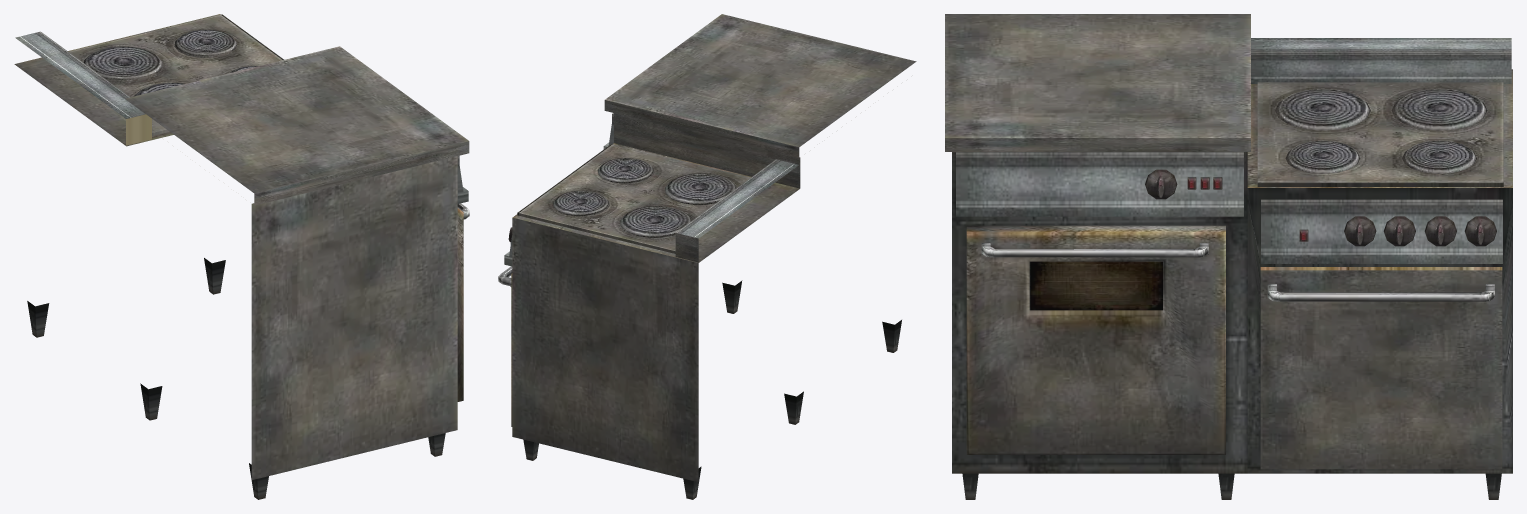
File: kitchen_stove001a.glb
3 renders of one model, left to right at view 1: azimuth 30°, elevation 25°; view 2: azimuth 150°, elevation 25°; view 3: azimuth 270°, elevation 25°, orthographic. The views are drawn at different scales.
Parts seen in each view (by area): view 1: 0_prisonkitchen02; view 2: 0_prisonkitchen02; view 3: 0_prisonkitchen02.
Boxes of the visible parts, x1,y1,x2,y2 form: 0_prisonkitchen02: (14, 14, 469, 499); 0_prisonkitchen02: (498, 14, 916, 499); 0_prisonkitchen02: (945, 14, 1512, 499).
Size of the model in its own units: 0.9237 by 1.19 by 1.65.
Materials: 1 (1 with a texture image).
